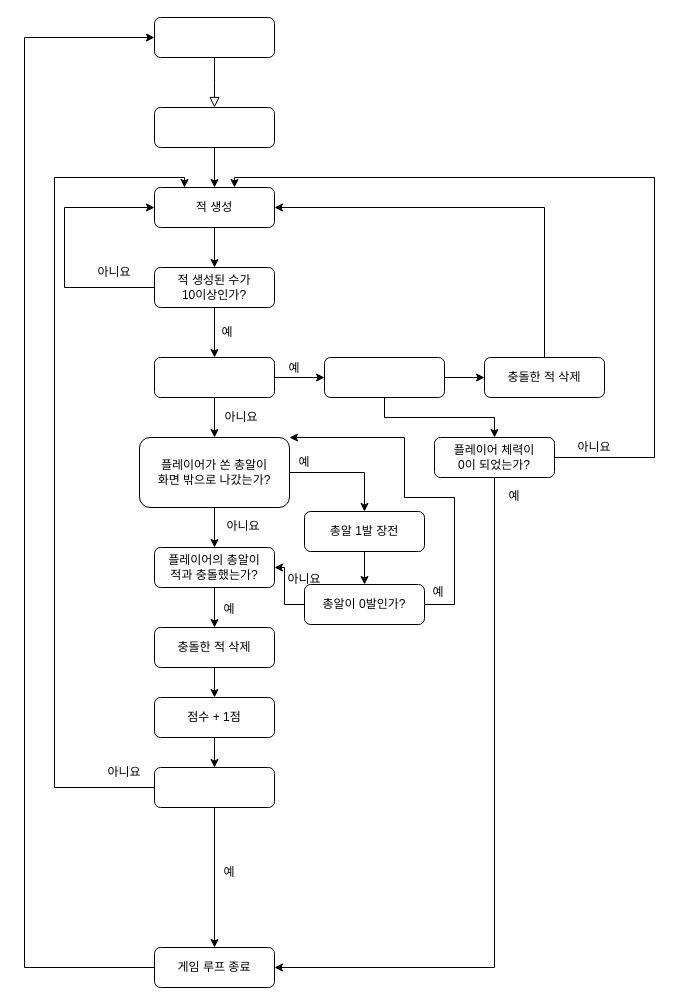
Some shapes in this 680 by 1005 pixel diagram are drawn without their labels. The box of each missing label's shape, as (x1, y1, x2, y2) in pixels:
게임 루프 시작: (154, 16, 274, 58)
점수가 100점 이상인가?: (154, 766, 274, 808)
플레이어 생성: (154, 106, 274, 148)
플레이어 체력 1감소: (324, 356, 444, 398)
플레이어와 적이 충돌했는가?: (154, 356, 274, 398)
